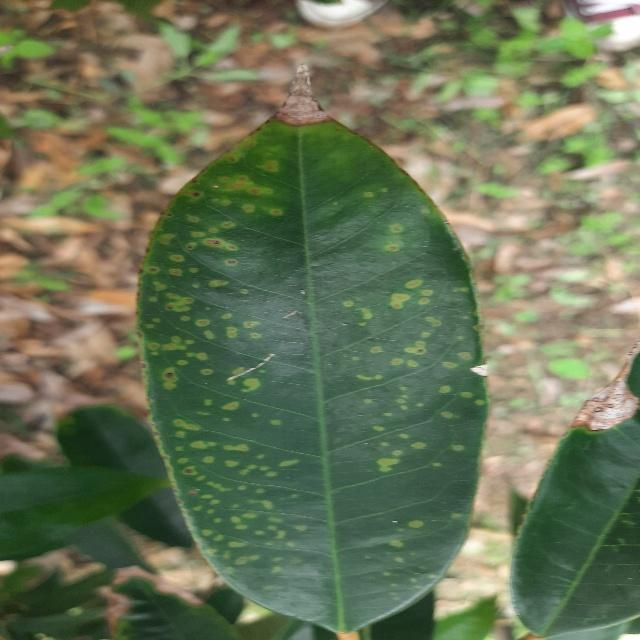Leaf Spot: (131, 77, 501, 640)
